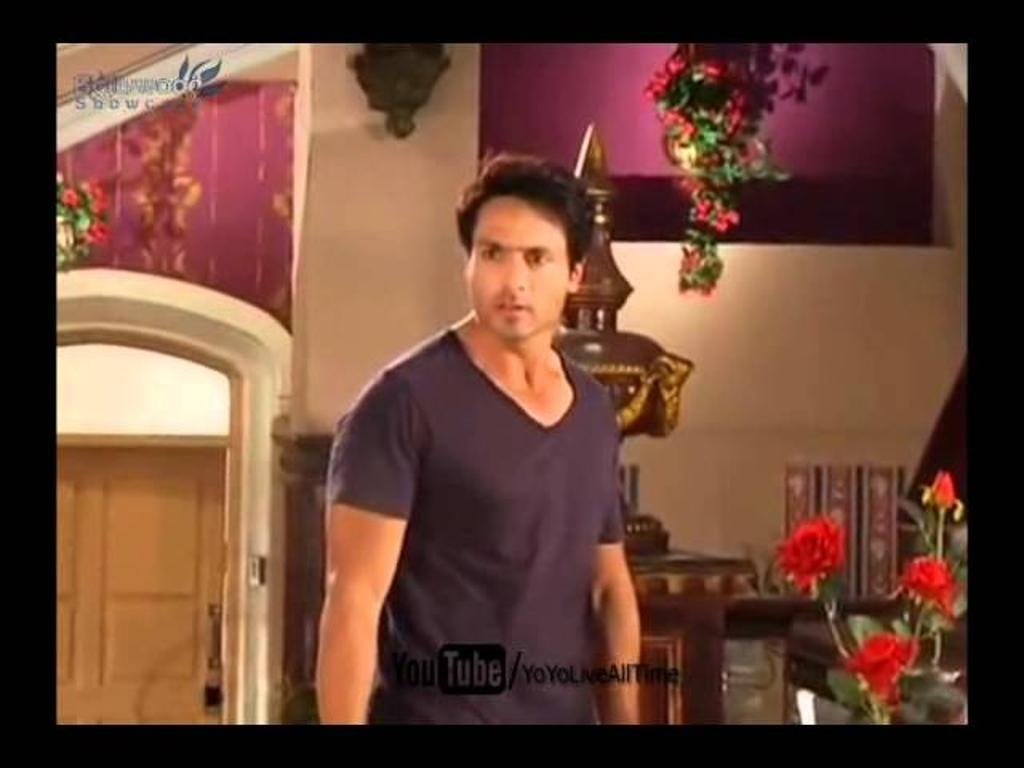face: (465, 195, 581, 341)
